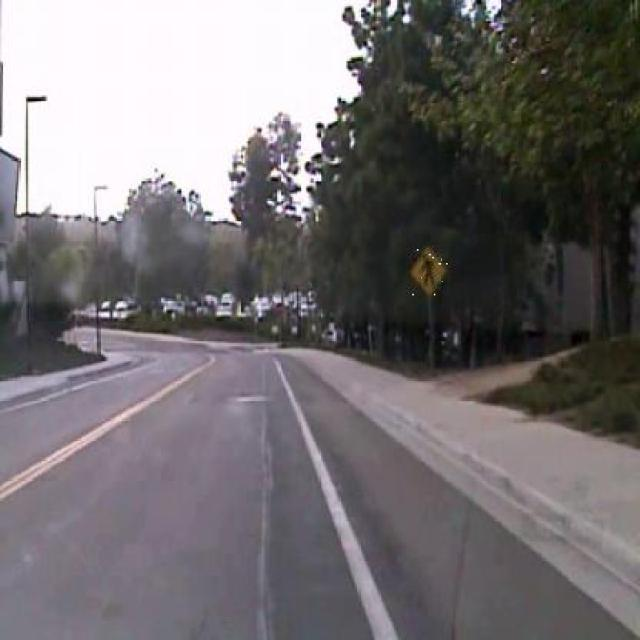pedestrianCrossing: (409, 243, 449, 297)
